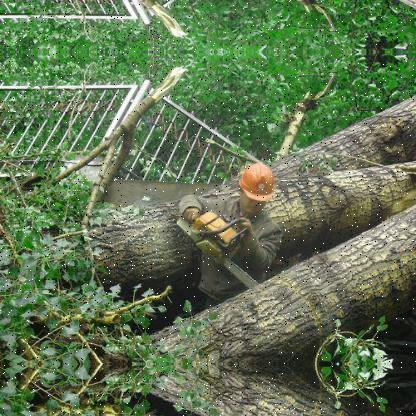Helmet: (228, 165, 281, 225)
